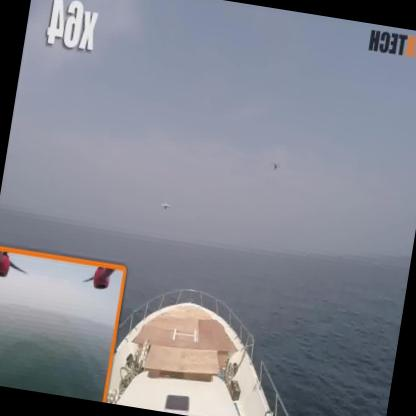drone: (159, 199, 173, 213)
